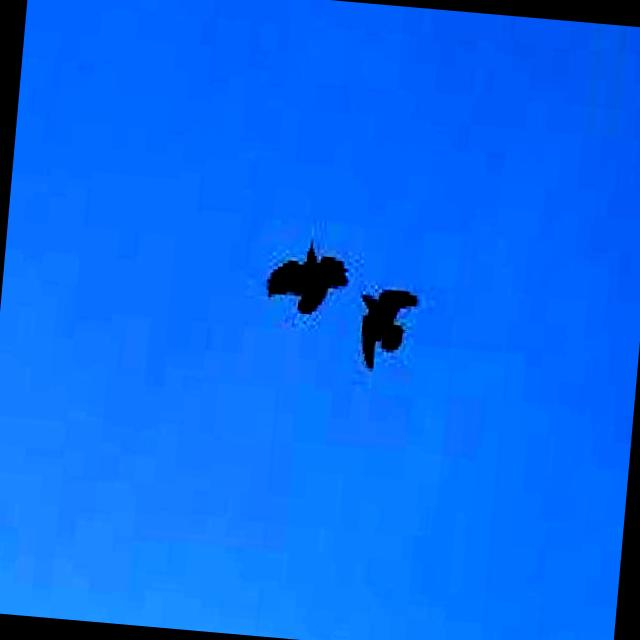bird: (248, 234, 362, 325), (352, 276, 418, 369)
